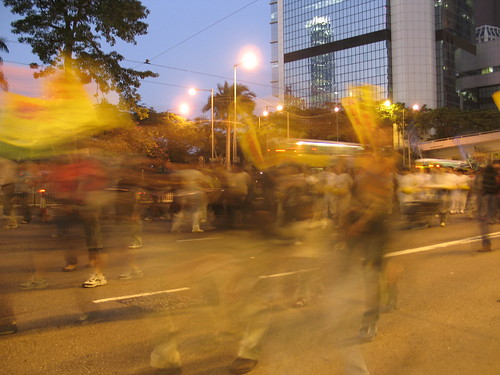building: (272, 1, 469, 112)
sky: (1, 1, 268, 112)
street: (1, 233, 489, 375)
tree: (16, 1, 143, 94)
